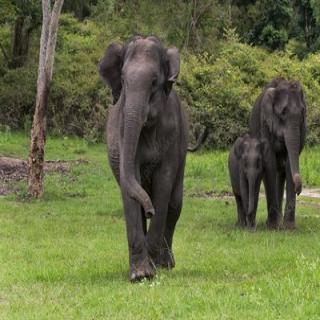Elephant: (100, 32, 212, 286), (250, 71, 309, 233), (224, 132, 271, 236)
